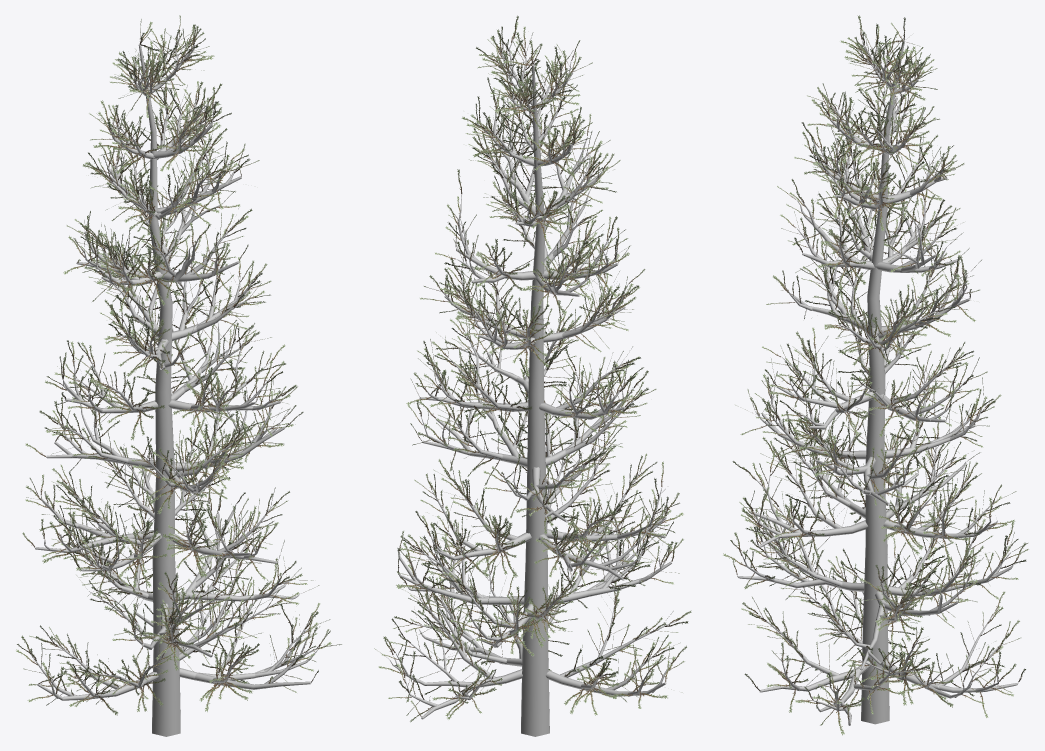
Rendered from HighResPine.fbx.
3 views of the same model, side by side, from view 1: azimuth 30°, elevation 25°; view 2: azimuth 150°, elevation 25°; view 3: azimuth 270°, elevation 25° (orthographic).
Visible parts, largest first — view 1: leaves.001, tree.001; view 2: leaves.001, tree.001; view 3: leaves.001, tree.001.
Part boxes in pixels (<box>): leaves.001: <box>16,15,341,715</box>; tree.001: <box>31,38,319,736</box>; leaves.001: <box>374,15,691,722</box>; tree.001: <box>389,39,674,736</box>; leaves.001: <box>723,15,1028,735</box>; tree.001: <box>737,40,1018,725</box>.
Bounding box in the file's own units: 1.97 × 4.61 × 1.85.
